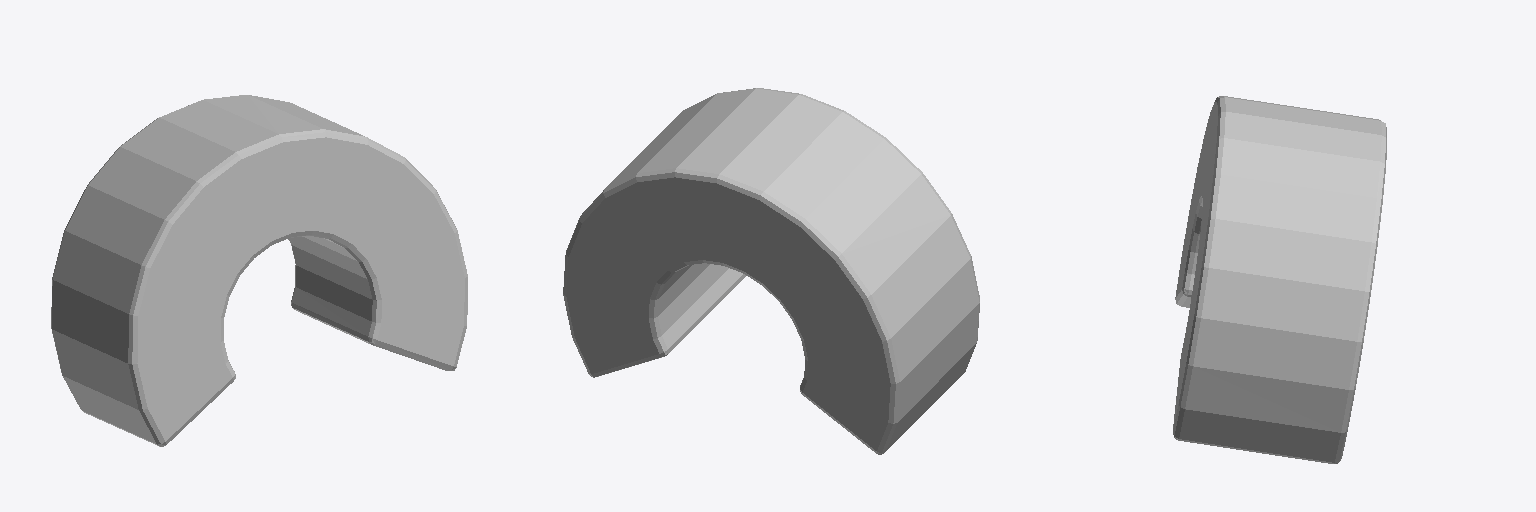
The model's file is left hand.obj.
The picture shows the model from 3 angles: view 1: azimuth 30°, elevation 25°; view 2: azimuth 150°, elevation 25°; view 3: azimuth 270°, elevation 25°; orthographic projection.
Visible parts, largest first — view 1: Blake_left_hand_left_wrist_left_wrist; view 2: Blake_left_hand_left_wrist_left_wrist; view 3: Blake_left_hand_left_wrist_left_wrist.
Boxes of the visible parts, x1=… form: Blake_left_hand_left_wrist_left_wrist: x1=51, y1=95, x2=467, y2=446; Blake_left_hand_left_wrist_left_wrist: x1=563, y1=88, x2=979, y2=454; Blake_left_hand_left_wrist_left_wrist: x1=1173, y1=96, x2=1386, y2=463.
Size of the model in its own units: 0.8087 by 0.649 by 0.4436.